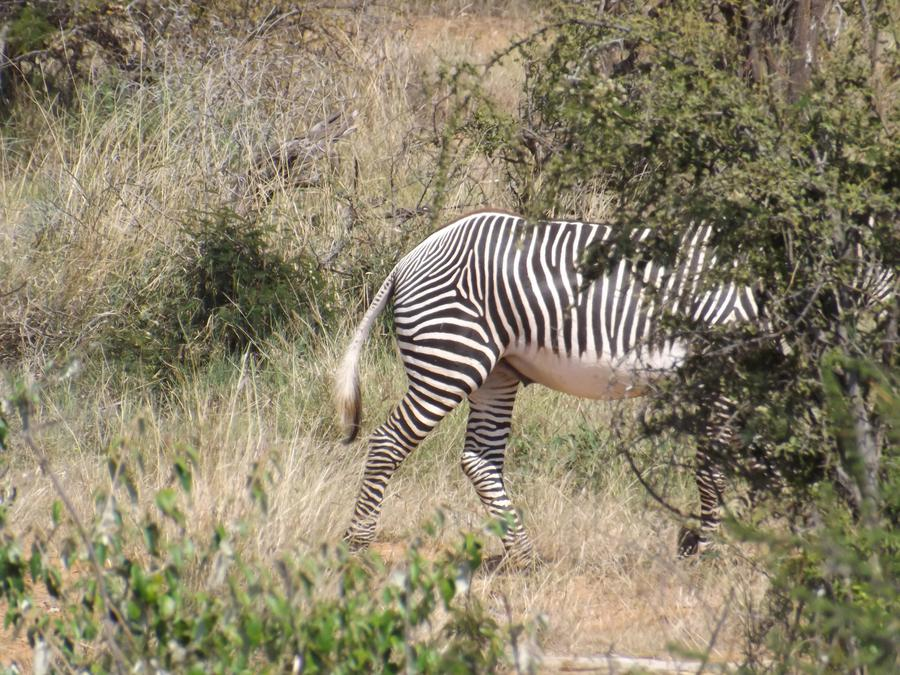zebra_grevys: (379, 192, 711, 381)
